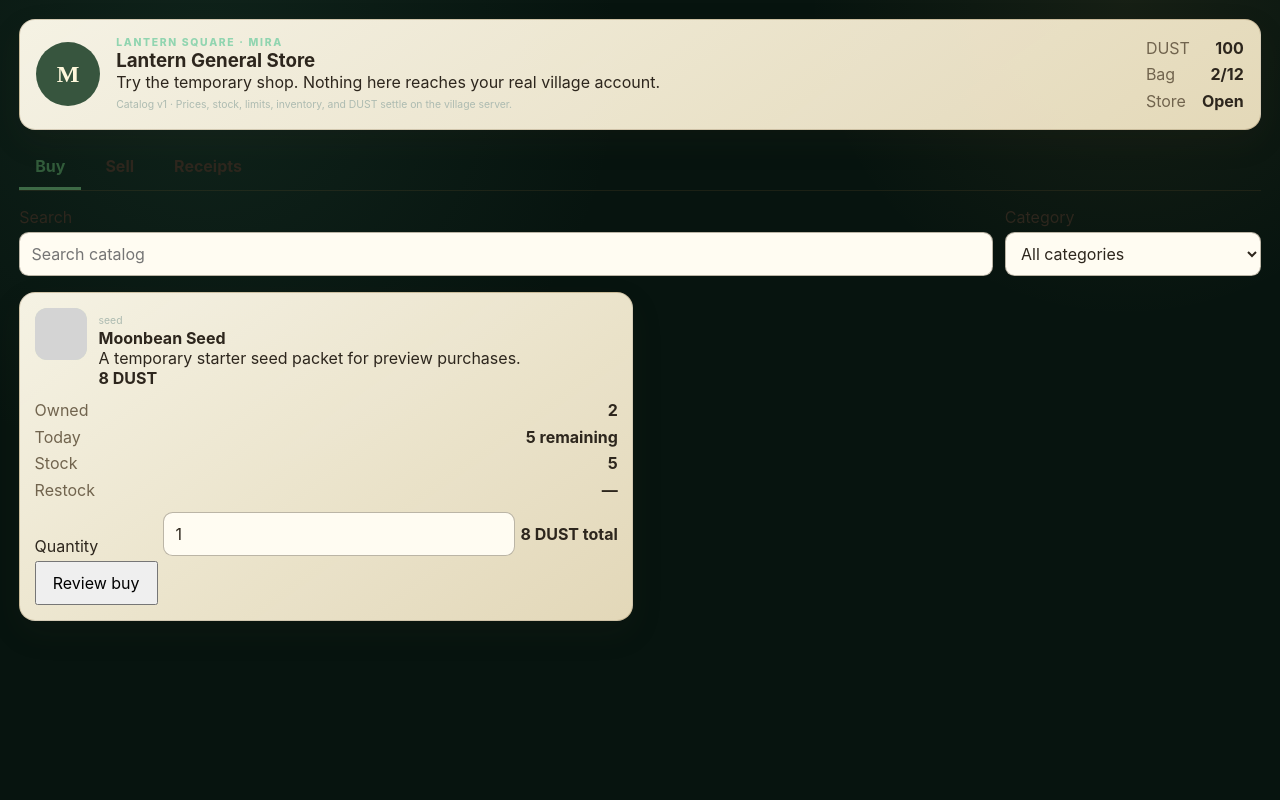
GeneralStorePanel › supports sale confirmation, safe failure recovery, and receipts empty state
The image size is (1280, 800).
Click the tab "Sell": (120,168) [89,146,150,190]
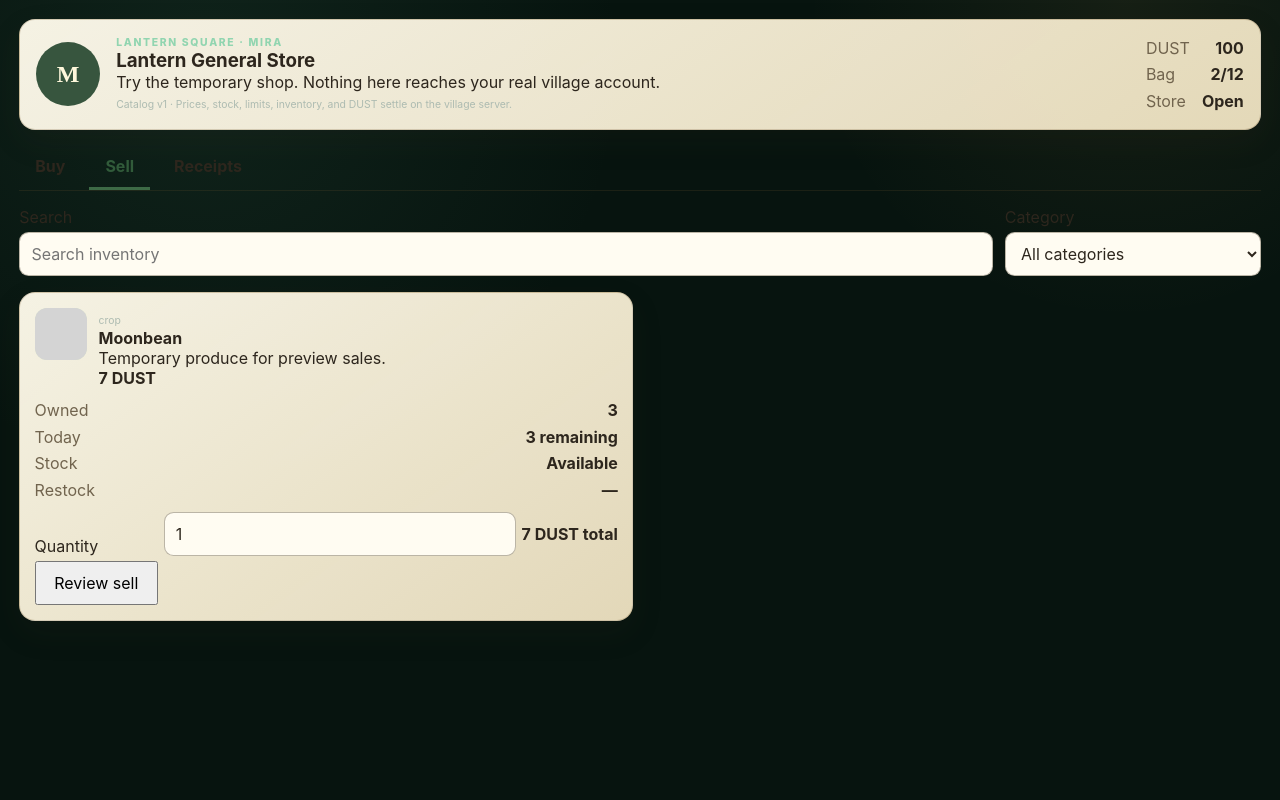
Expected: the text "Moonbean" is shown, [99,328,182,348]
Expected: the text "3" is shown, [608,400,618,420]
Click the button "Review sell": (96,583) [35,561,158,605]
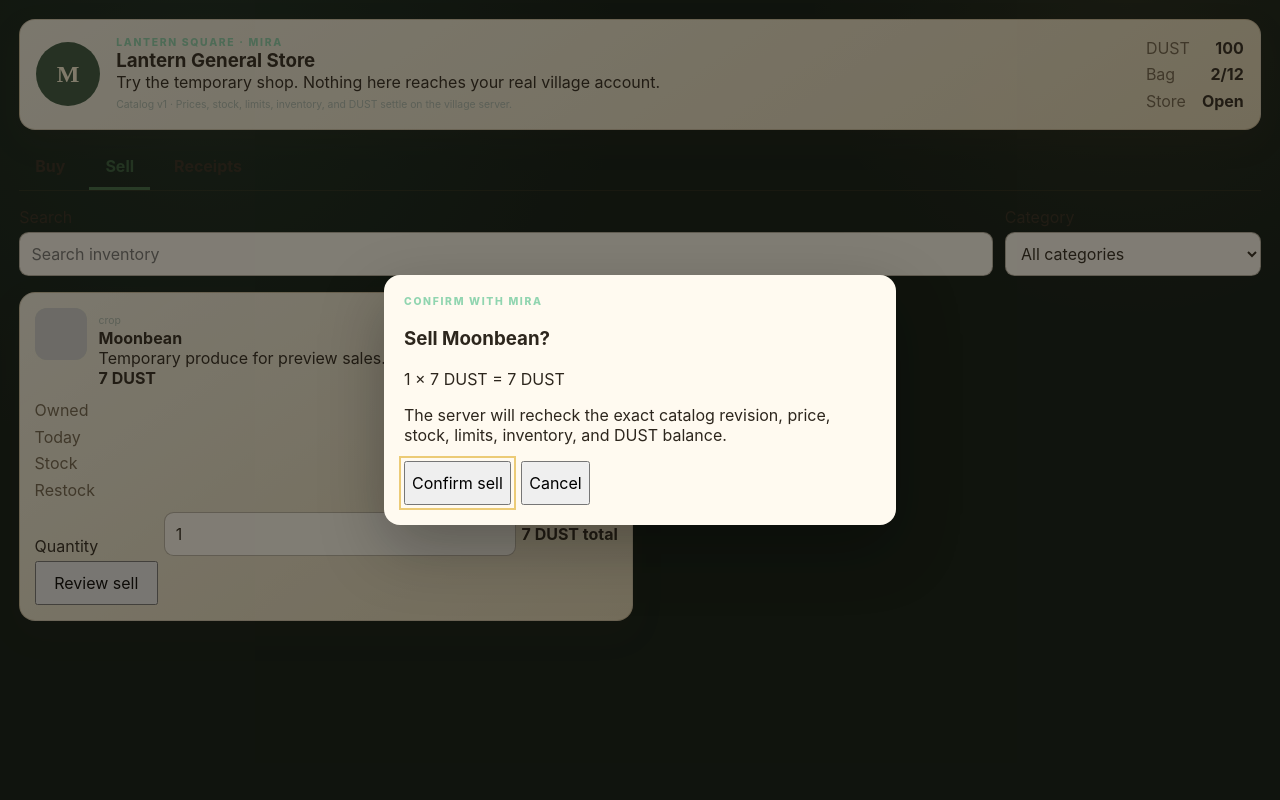
Click the button "Confirm sell": (457,483) [404,461,511,505]
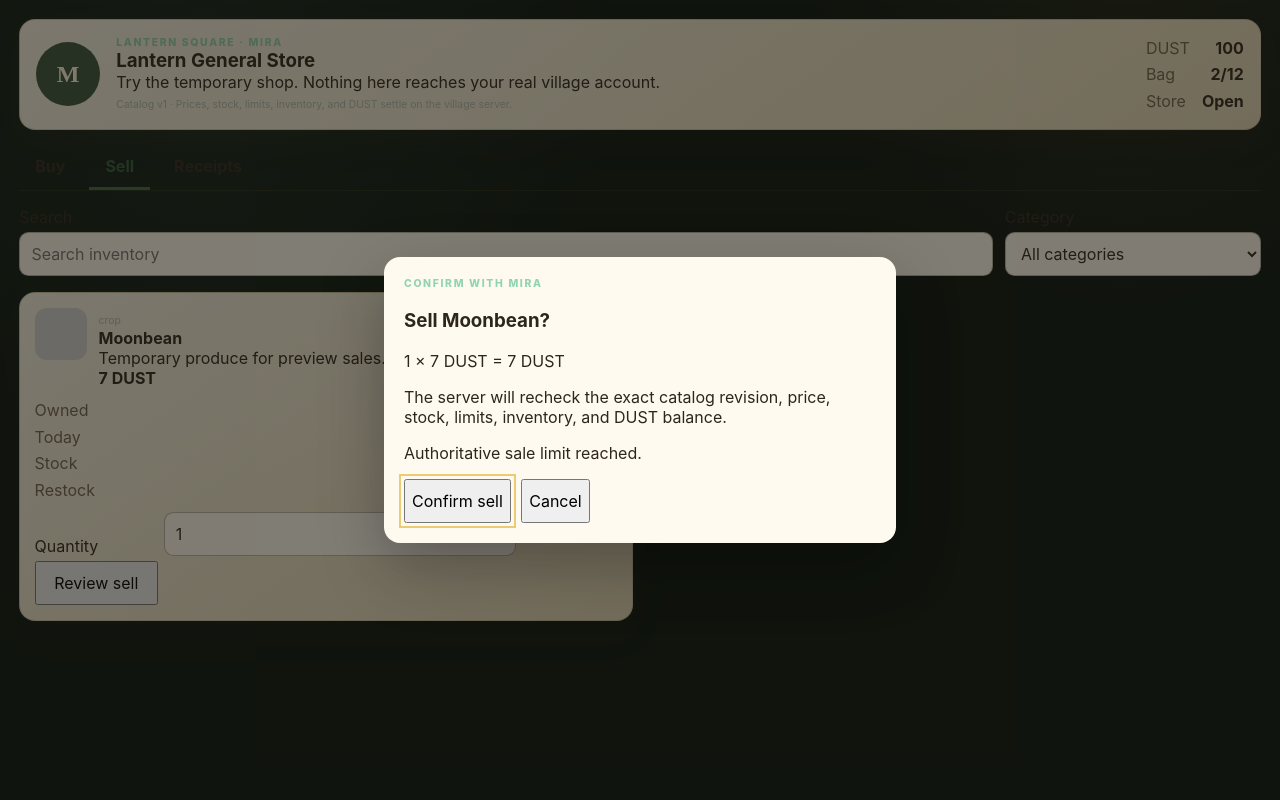
Expected: the message "Authoritative sale limit reached." is shown, [404,443,642,463]
Click the button "Cancel": (555,501) [521,479,590,523]
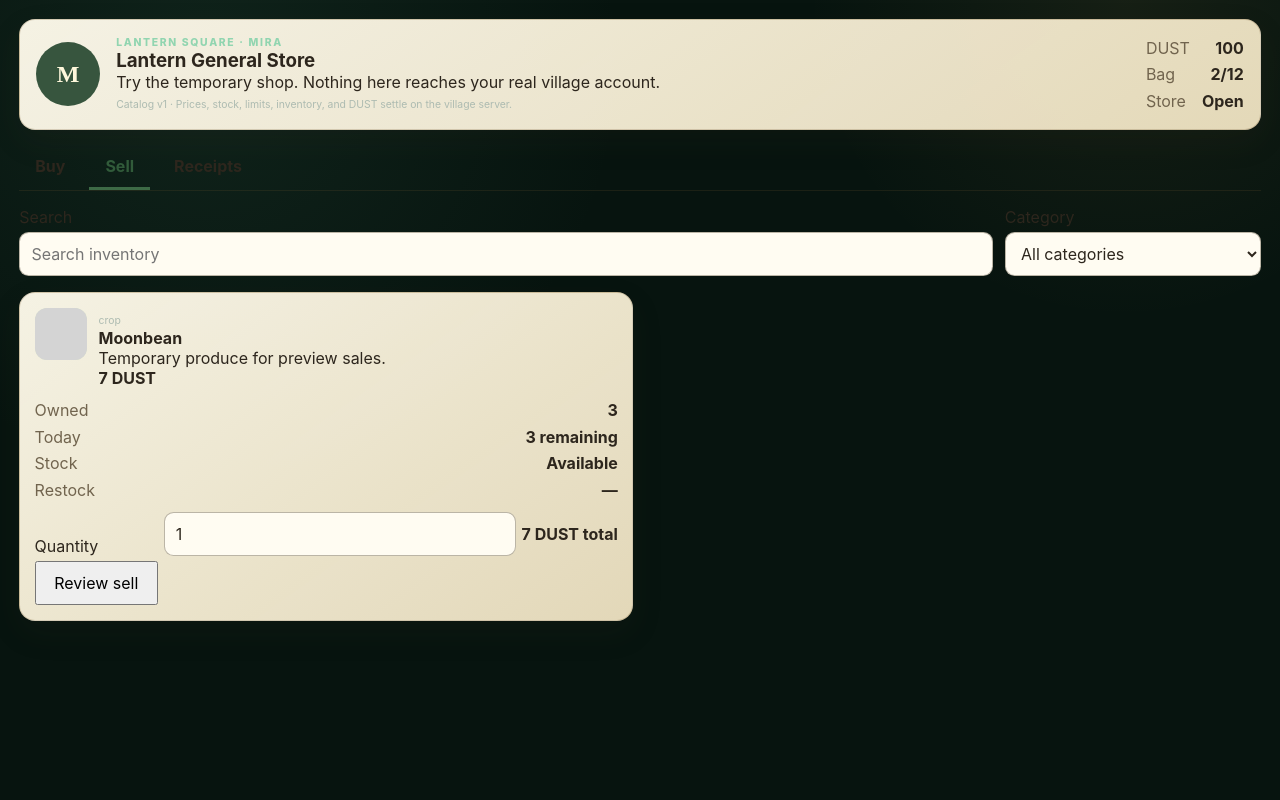
Click the tab "Receipts": (208,168) [158,146,258,190]
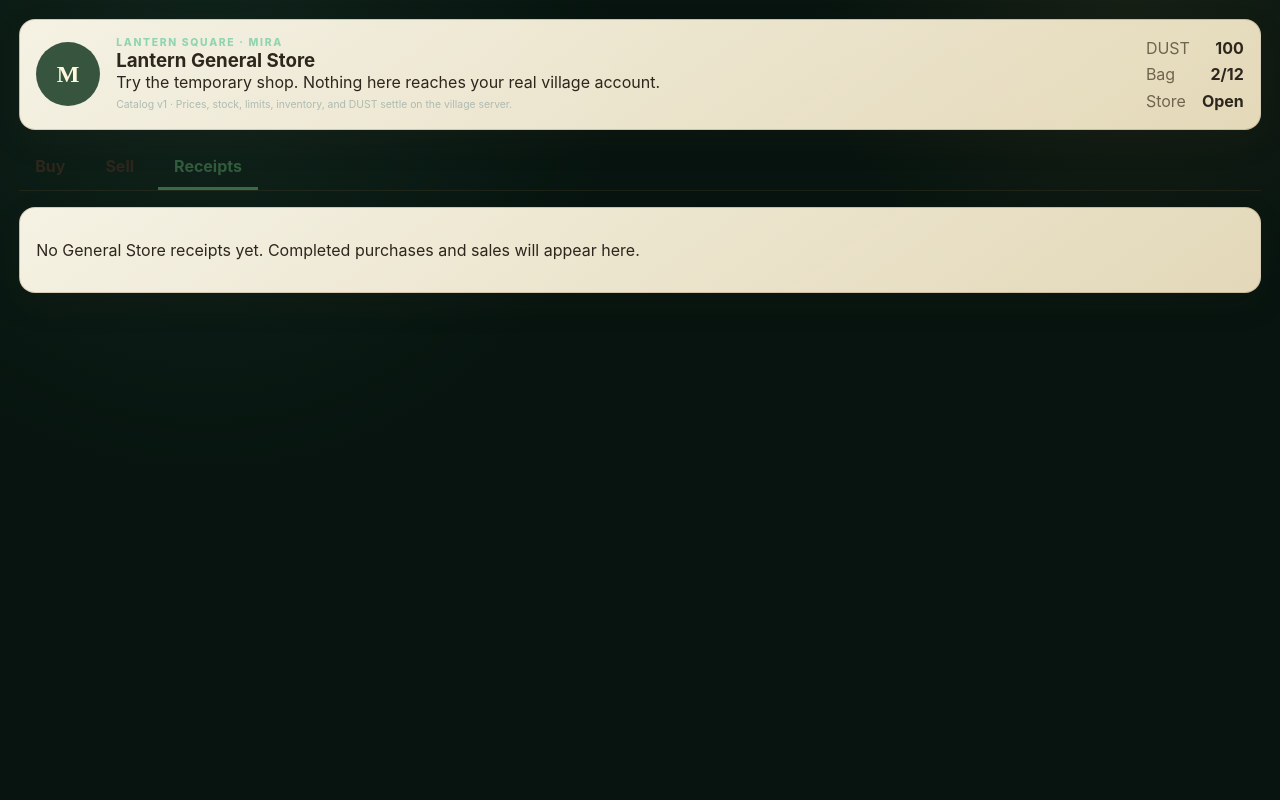
Expected: the text "No General Store receipts yet." is shown, [36,240,640,260]
